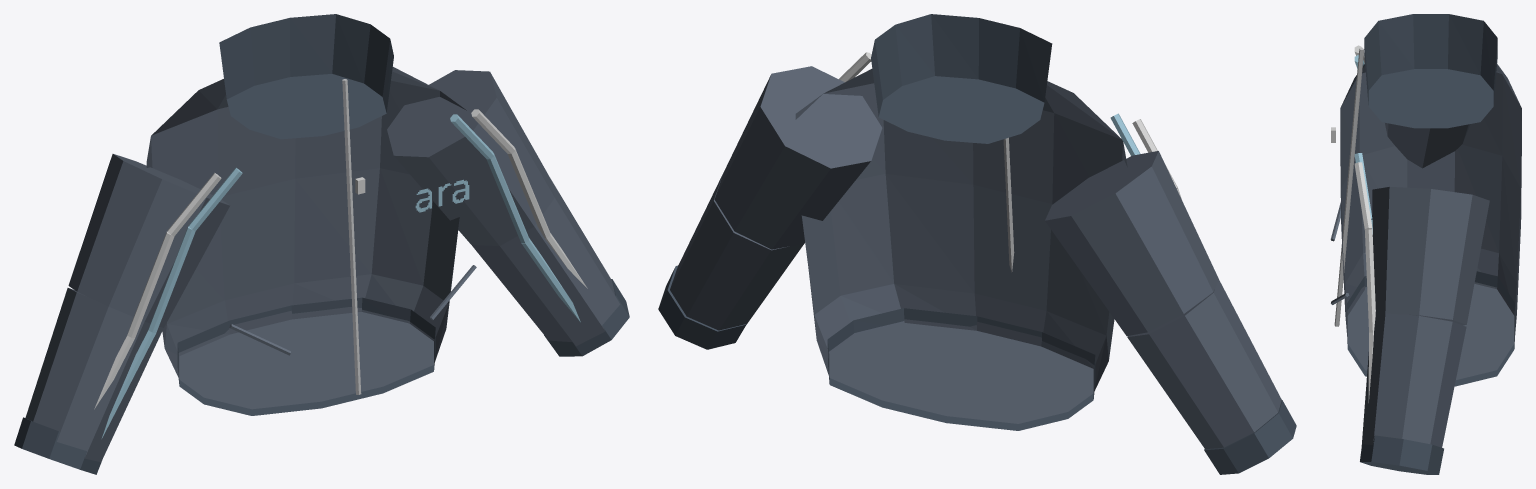
File: top_track_jacket.glb
3 renders of one model, left to right at view 1: azimuth 30°, elevation 25°; view 2: azimuth 150°, elevation 25°; view 3: azimuth 270°, elevation 25°, orthographic. The views are drawn at different scales.
Parts seen in each view (by area): view 1: top_track_jacket_Torso, top_track_jacket_Sleeve_R, top_track_jacket_Sleeve_L, top_track_jacket_Collar, top_track_jacket_DoubleStripe_R, top_track_jacket_Hem, top_track_jacket_DoubleStripe_L, top_track_jacket_Cuff_R, top_track_jacket_Zip, top_track_jacket_Cuff_L, top_track_jacket_Pocket; view 2: top_track_jacket_Torso, top_track_jacket_Sleeve_R, top_track_jacket_Sleeve_L, top_track_jacket_Collar, top_track_jacket_Hem, top_track_jacket_Cuff_R, top_track_jacket_Cuff_L, top_track_jacket_DoubleStripe_R, top_track_jacket_Zip; view 3: top_track_jacket_Sleeve_L, top_track_jacket_Torso, top_track_jacket_Collar, top_track_jacket_Cuff_L, top_track_jacket_Sleeve_R, top_track_jacket_DoubleStripe_L, top_track_jacket_Zip, top_track_jacket_Hem, top_track_jacket_Pocket.
Boxes of the visible parts, x1=… form: top_track_jacket_Torso: x1=146, y1=67, x2=466, y2=409; top_track_jacket_Sleeve_R: x1=25, y1=154, x2=229, y2=461; top_track_jacket_Sleeve_L: x1=387, y1=70, x2=620, y2=346; top_track_jacket_Collar: x1=219, y1=14, x2=393, y2=139; top_track_jacket_DoubleStripe_R: x1=94, y1=168, x2=242, y2=438; top_track_jacket_Hem: x1=177, y1=297, x2=435, y2=415; top_track_jacket_DoubleStripe_L: x1=450, y1=109, x2=587, y2=322; top_track_jacket_Cuff_R: x1=14, y1=417, x2=101, y2=474; top_track_jacket_Zip: x1=342, y1=79, x2=361, y2=394; top_track_jacket_Cuff_L: x1=544, y1=279, x2=629, y2=356; top_track_jacket_Pocket: x1=229, y1=265, x2=476, y2=355; top_track_jacket_Torso: x1=795, y1=69, x2=1127, y2=423; top_track_jacket_Sleeve_R: x1=1045, y1=151, x2=1281, y2=449; top_track_jacket_Sleeve_L: x1=670, y1=66, x2=882, y2=330; top_track_jacket_Collar: x1=871, y1=14, x2=1052, y2=143; top_track_jacket_Hem: x1=827, y1=308, x2=1095, y2=430; top_track_jacket_Cuff_R: x1=1204, y1=400, x2=1296, y2=474; top_track_jacket_Cuff_L: x1=658, y1=265, x2=746, y2=349; top_track_jacket_DoubleStripe_R: x1=1110, y1=113, x2=1181, y2=199; top_track_jacket_Zip: x1=1002, y1=23, x2=1014, y2=272; top_track_jacket_Sleeve_L: x1=1361, y1=186, x2=1489, y2=447; top_track_jacket_Torso: x1=1340, y1=64, x2=1521, y2=379; top_track_jacket_Collar: x1=1364, y1=14, x2=1497, y2=128; top_track_jacket_Cuff_L: x1=1360, y1=435, x2=1443, y2=474; top_track_jacket_Sleeve_R: x1=1385, y1=123, x2=1470, y2=168; top_track_jacket_DoubleStripe_L: x1=1354, y1=153, x2=1375, y2=402; top_track_jacket_Zip: x1=1334, y1=48, x2=1364, y2=326; top_track_jacket_Hem: x1=1347, y1=271, x2=1515, y2=386; top_track_jacket_Pocket: x1=1330, y1=202, x2=1349, y2=304.
Size of the model in its own units: 0.7422 by 0.4128 by 0.2302.
